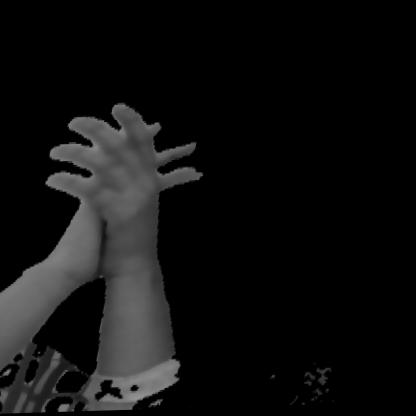clap: (0, 84, 234, 342)
